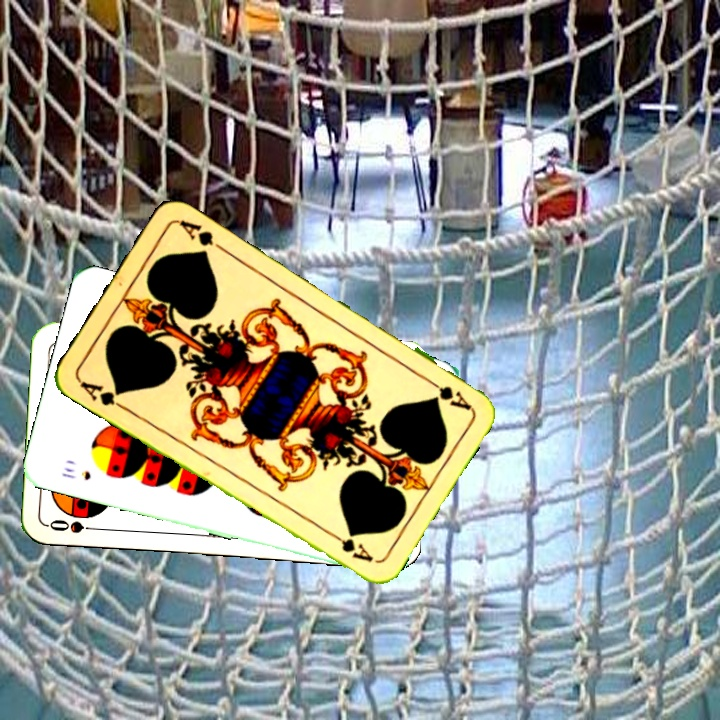GA: (420, 373, 474, 413), (75, 376, 129, 414)
S10: (57, 463, 94, 483)
SO: (45, 515, 105, 536)
